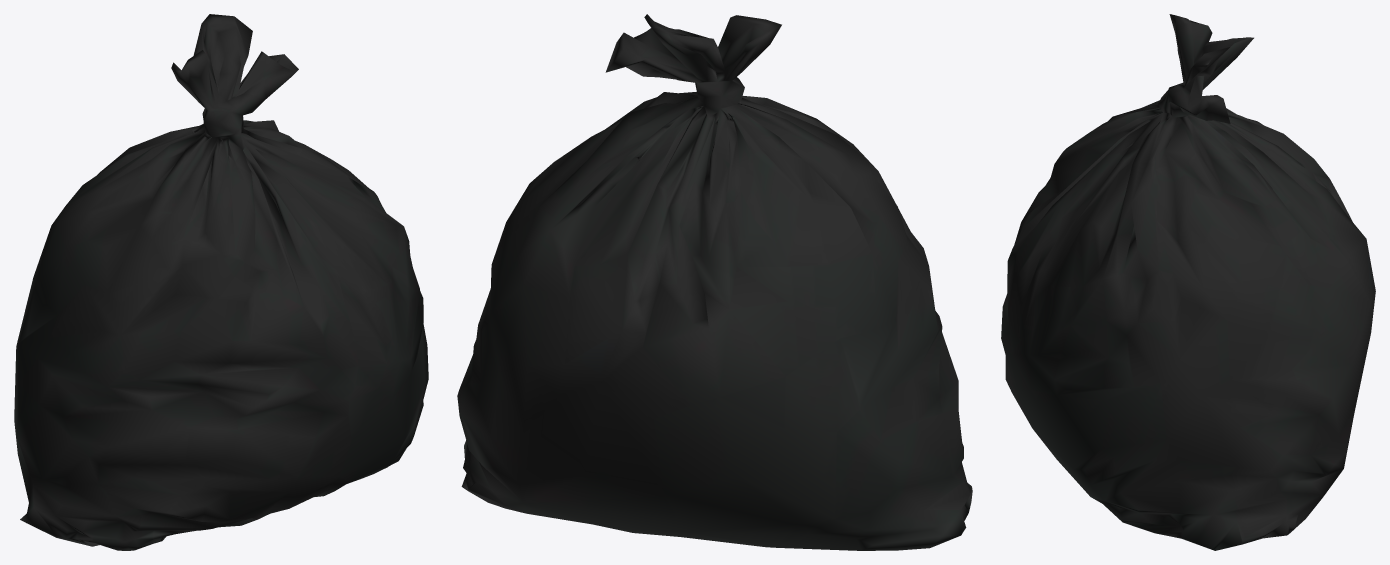
The model's file is bolsa.opt.glb.
3 views of the same model, side by side, from view 1: azimuth 30°, elevation 25°; view 2: azimuth 150°, elevation 25°; view 3: azimuth 270°, elevation 25° (orthographic). The views are drawn at different scales.
Parts seen in each view (by area): view 1: Mesh_0; view 2: Mesh_0; view 3: Mesh_0.
Part boxes in pixels (bbox=[...]): Mesh_0: bbox=[14, 14, 428, 550]; Mesh_0: bbox=[457, 14, 972, 550]; Mesh_0: bbox=[1001, 14, 1375, 550].
Bounding box in the file's own units: 1.9 × 1.88 × 1.49.
Materials: 1 (1 with a texture image).
